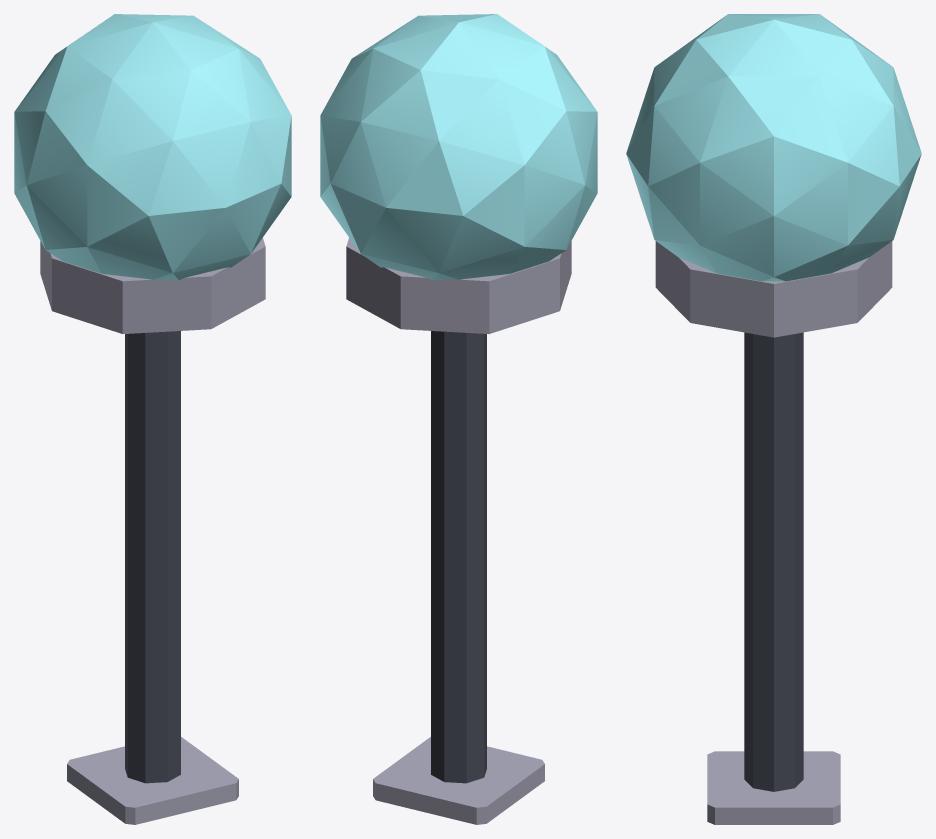
The model's file is LDLamp.model.obj.
The picture shows the model from 3 angles, left to right: view 1: azimuth 30°, elevation 25°; view 2: azimuth 150°, elevation 25°; view 3: azimuth 270°, elevation 25°; orthographic projection.
Visible parts, largest first — view 1: sphere_vertex_1, cylinder_vertex_0, cylinder_vertex_3, floor_square_2; view 2: sphere_vertex_1, cylinder_vertex_0, cylinder_vertex_3, floor_square_2; view 3: sphere_vertex_1, cylinder_vertex_0, cylinder_vertex_3, floor_square_2.
Boxes of the visible parts, left/top/right/bottom form: sphere_vertex_1: left=14, top=14, right=291, bottom=280; cylinder_vertex_0: left=125, top=331, right=180, bottom=783; cylinder_vertex_3: left=40, top=237, right=265, bottom=333; floor_square_2: left=67, top=737, right=238, bottom=824; sphere_vertex_1: left=320, top=14, right=597, bottom=280; cylinder_vertex_0: left=431, top=331, right=486, bottom=783; cylinder_vertex_3: left=346, top=237, right=571, bottom=333; floor_square_2: left=373, top=737, right=544, bottom=824; sphere_vertex_1: left=626, top=14, right=921, bottom=281; cylinder_vertex_0: left=744, top=332, right=803, bottom=791; cylinder_vertex_3: left=655, top=241, right=892, bottom=337; floor_square_2: left=707, top=751, right=840, bottom=824.
Bounding box in the file's own units: 1 × 2.9 × 1.
